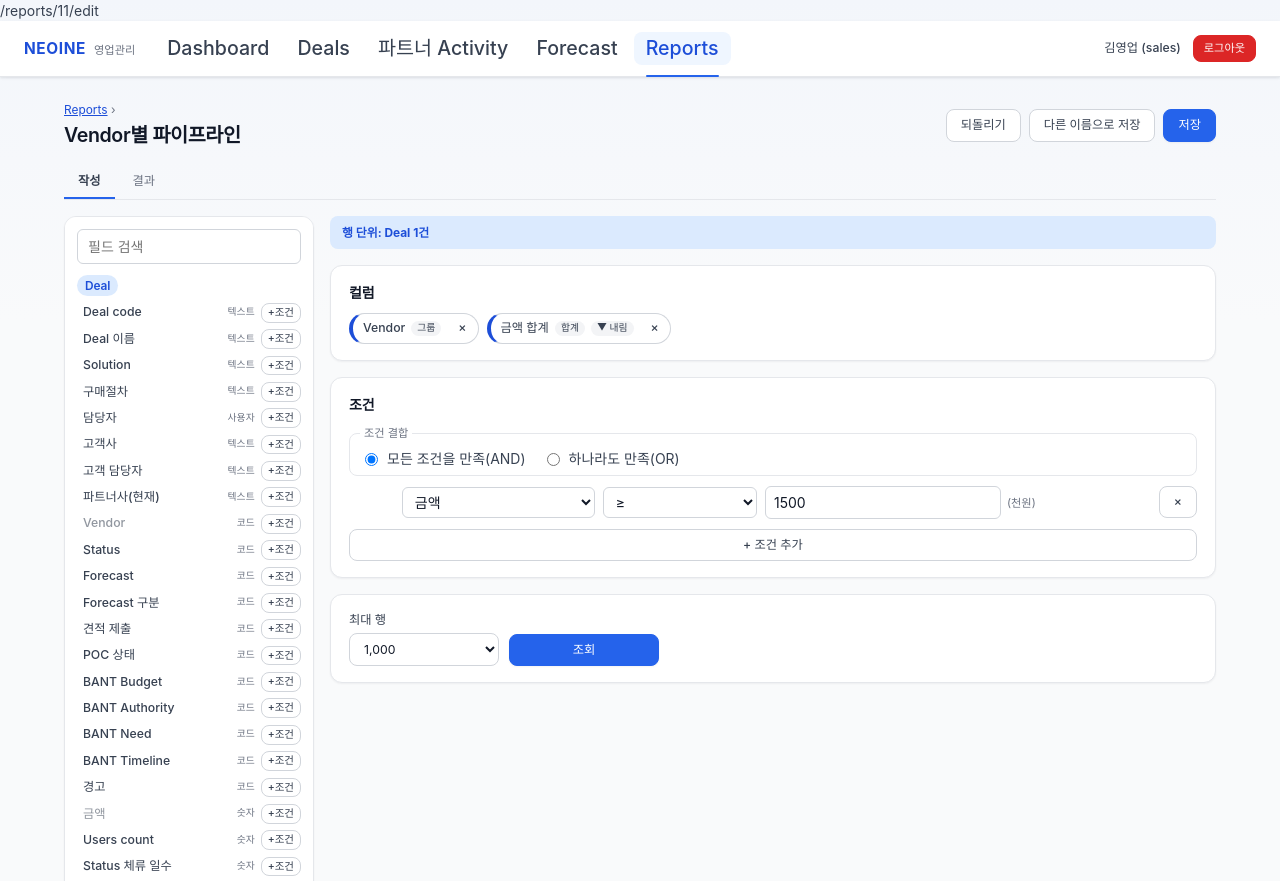
저장 요청이 진행 중일 때 대화상자 닫기 (4단계 재리뷰 Minor) › lets the user cancel with the button and Esc when no request is pending
Click the button with aria-label "Deal code 컬럼에 추가" at coordinates (149, 313), box [77,300,222,325]
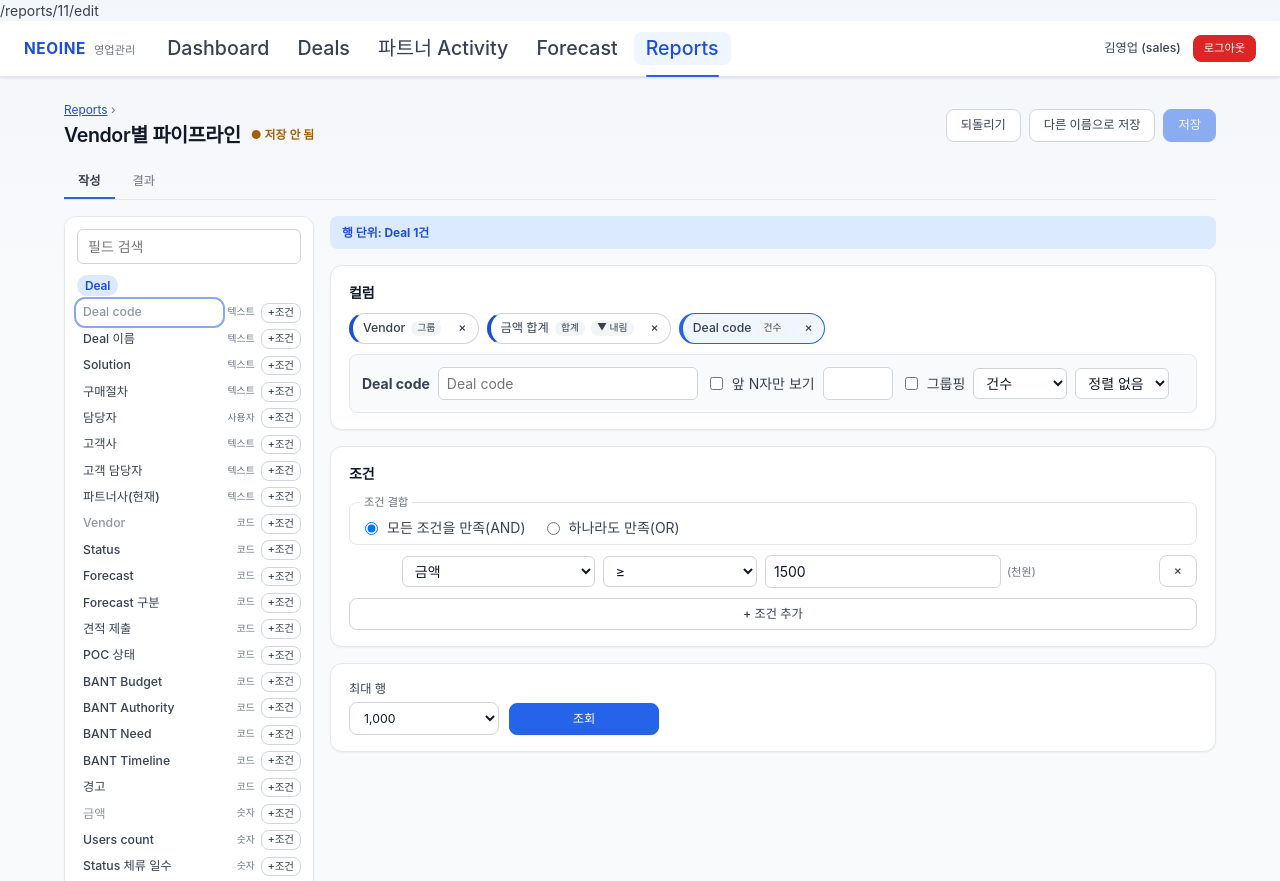
Click the button "Deal code 건수" at coordinates (740, 329), box [685,316,796,341]
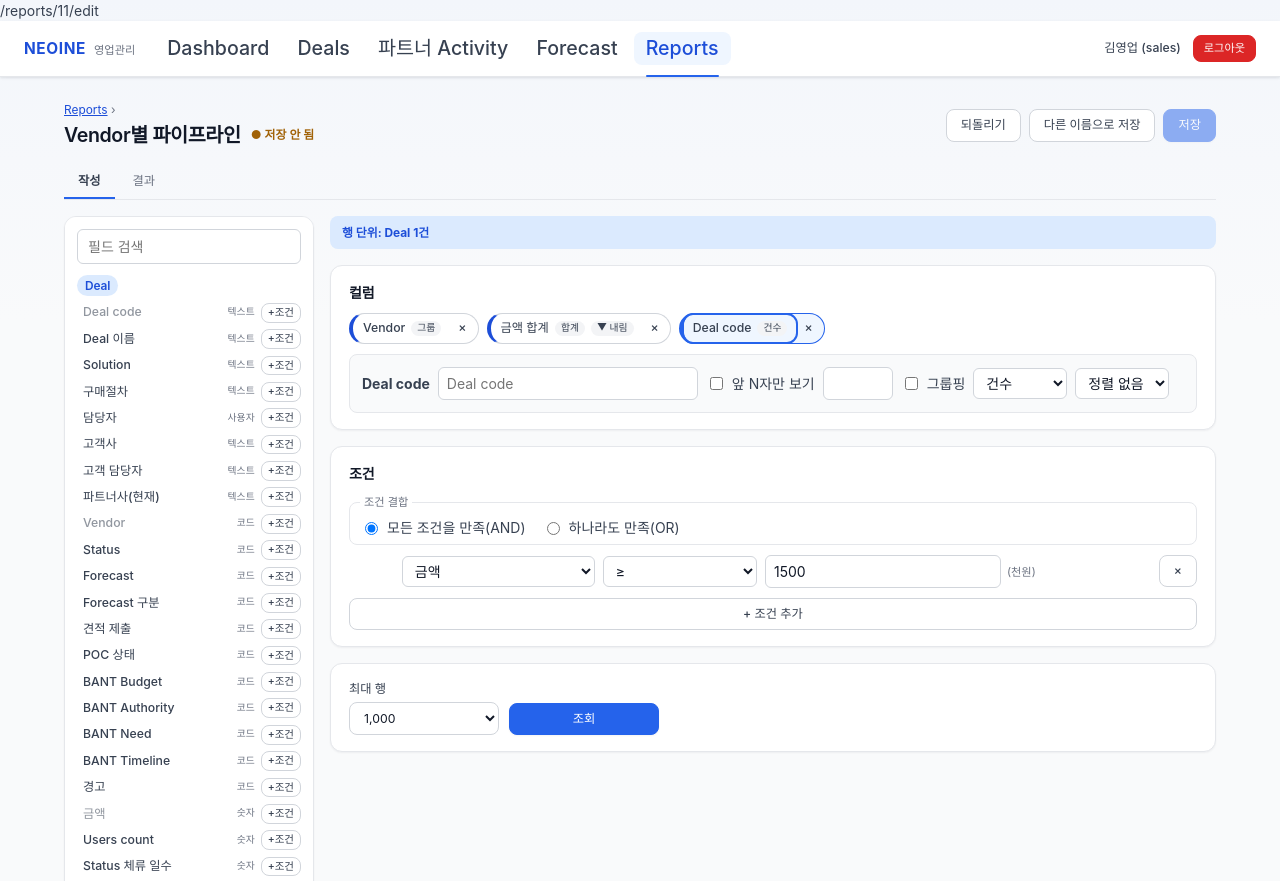
Select "건수" in the dropdown named "집계" at coordinates (1020, 383), box [973,368,1067,399]
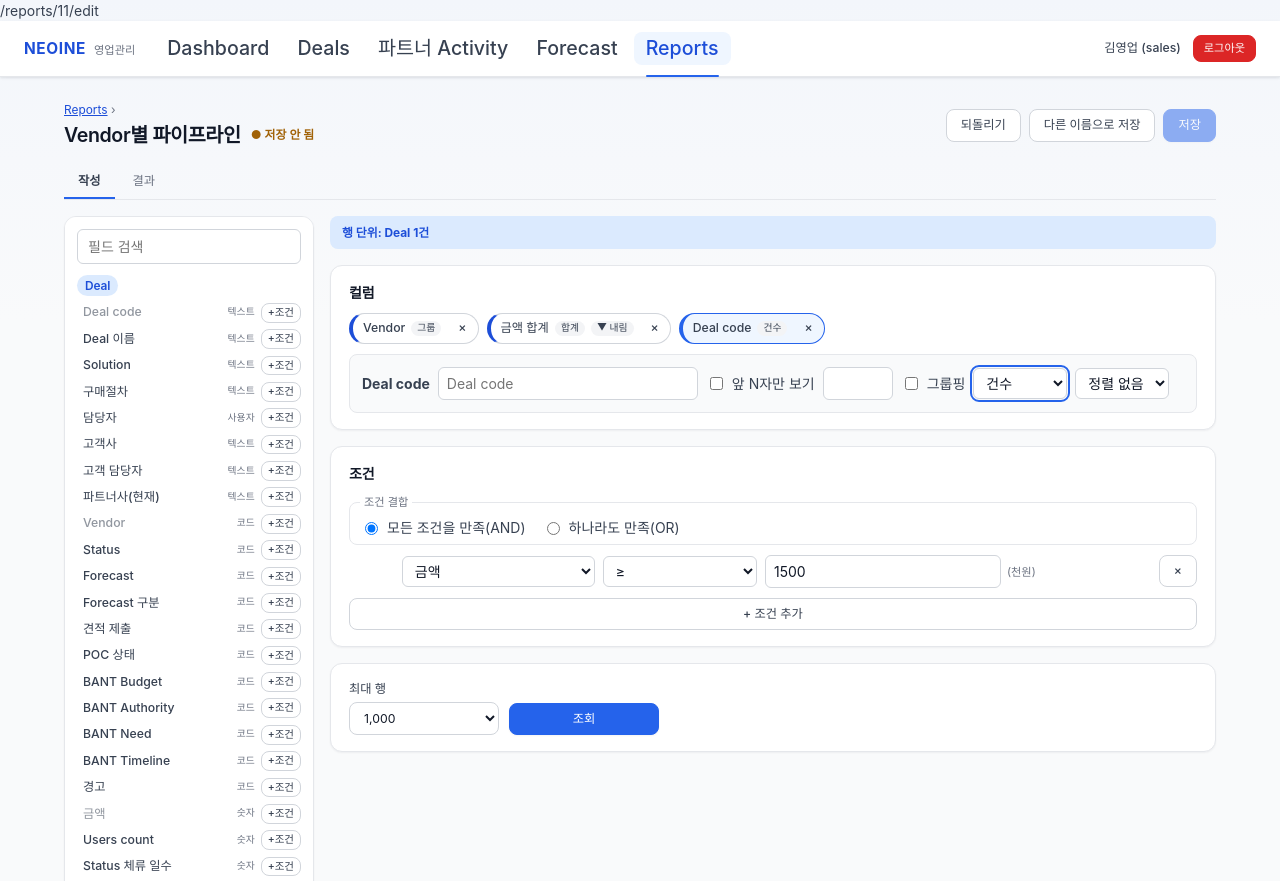
Click the button "조회" at coordinates (584, 719), box [509,703,659,735]
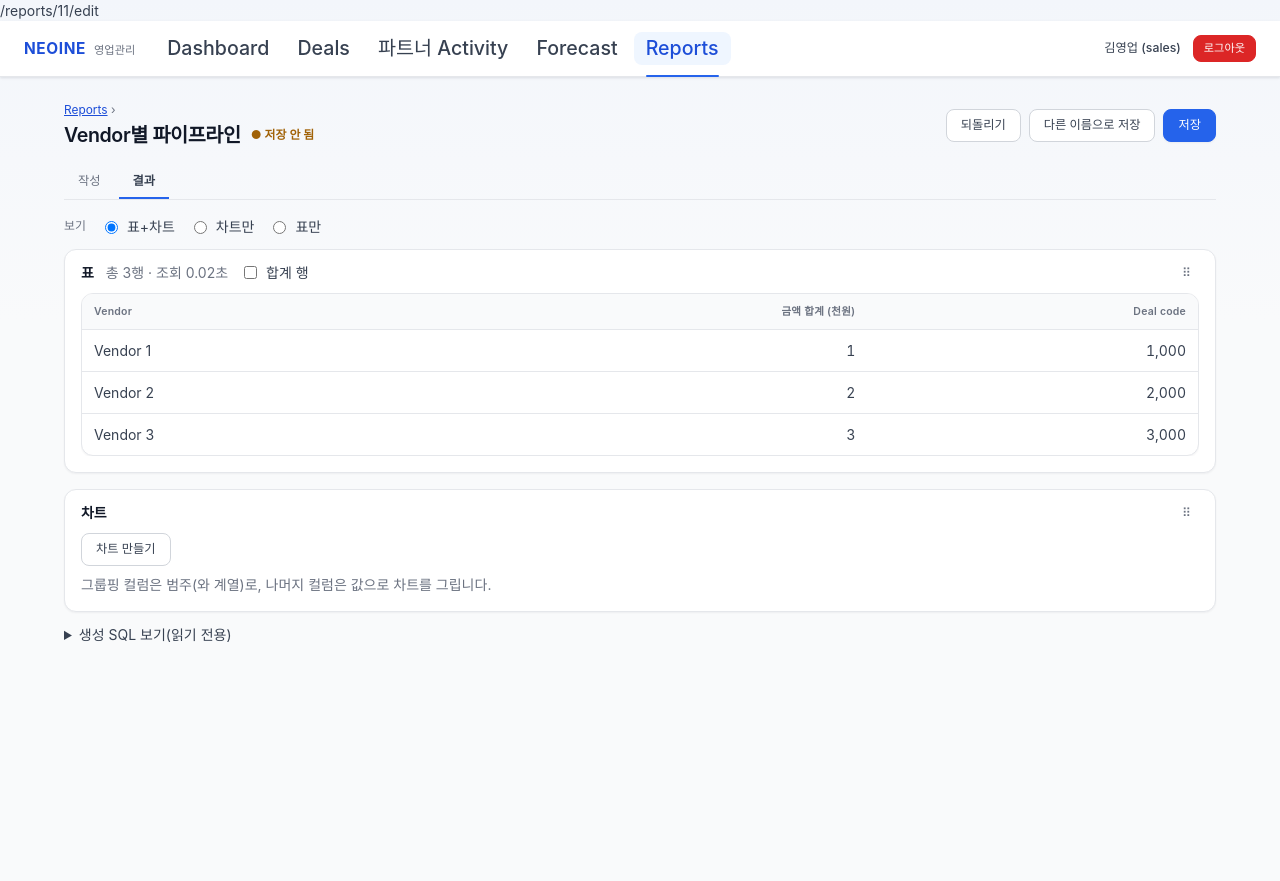
Check: the button "저장" is enabled
Click the button "저장" at coordinates (1190, 126), box [1164,109,1216,142]
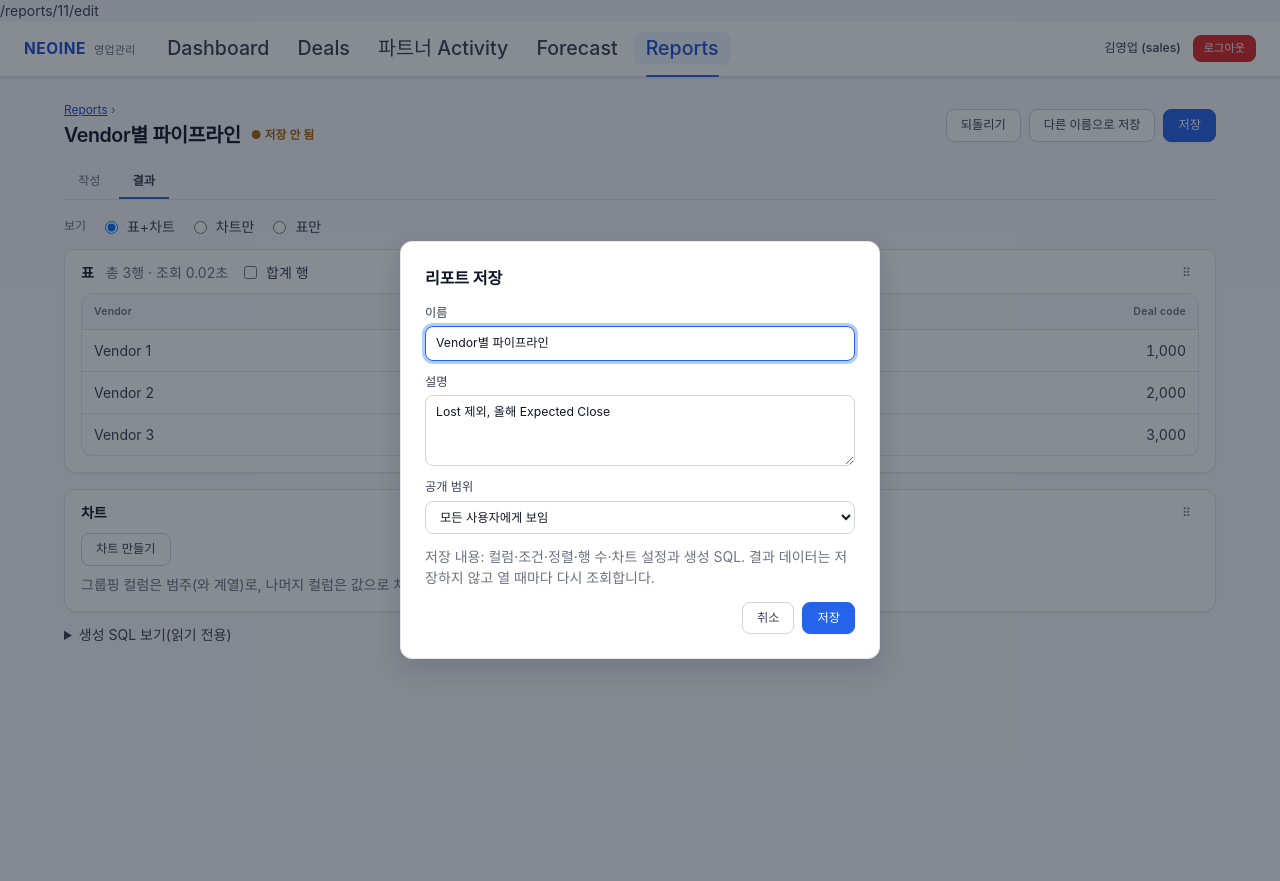
Check: the button "취소" is enabled, box [742,602,794,634]
Press Escape
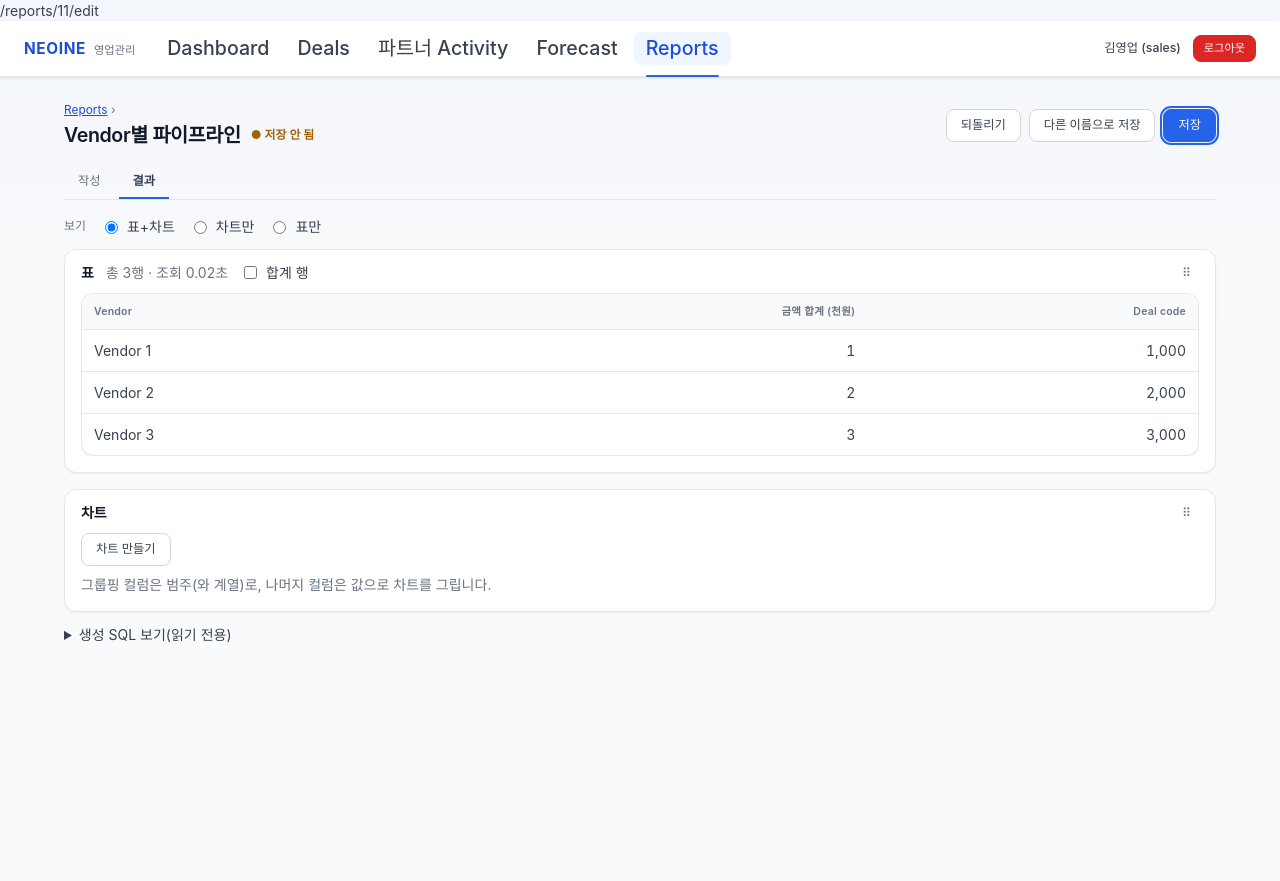
Check: the dialog is gone
